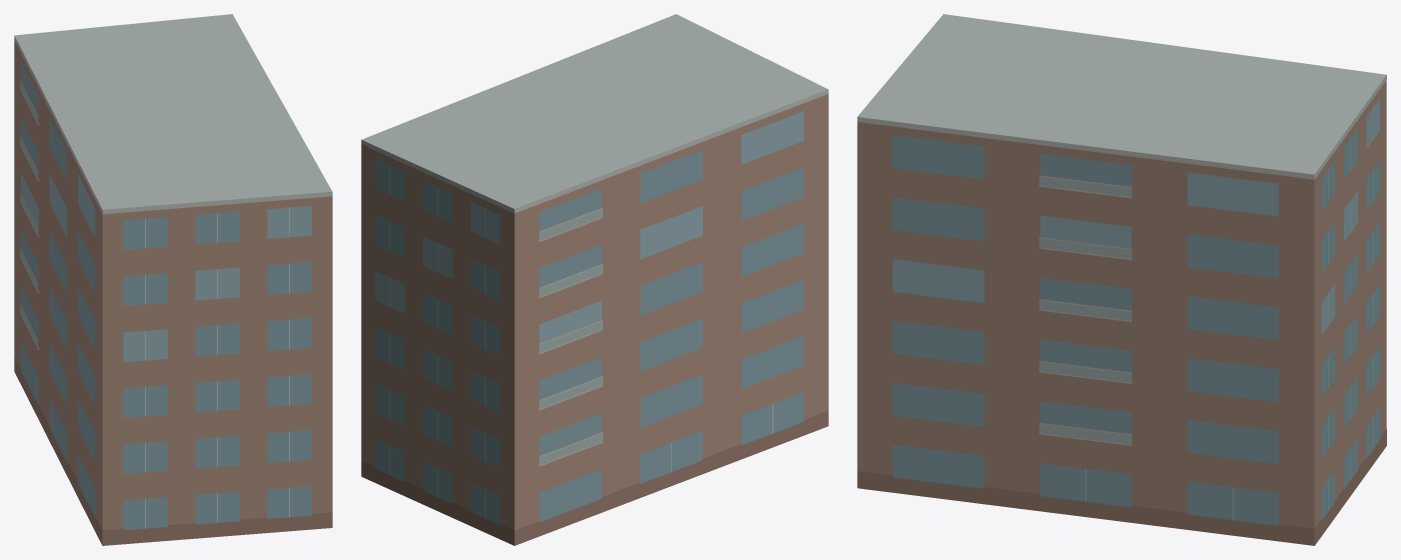
File: survey-upis-32880121.glb
3 views of the same model, side by side, from view 1: azimuth 30°, elevation 25°; view 2: azimuth 150°, elevation 25°; view 3: azimuth 270°, elevation 25° (orthographic). The views are drawn at different scales.
Visible parts, largest first — view 1: survey-upis-32880121.tmp; view 2: survey-upis-32880121.tmp; view 3: survey-upis-32880121.tmp.
Part boxes in pixels (box(x1,y1,x2,y2)): survey-upis-32880121.tmp: box(14, 14, 332, 545); survey-upis-32880121.tmp: box(361, 14, 828, 545); survey-upis-32880121.tmp: box(857, 14, 1386, 545).
Size of the model in its own units: 16.71 by 18 by 23.28.
